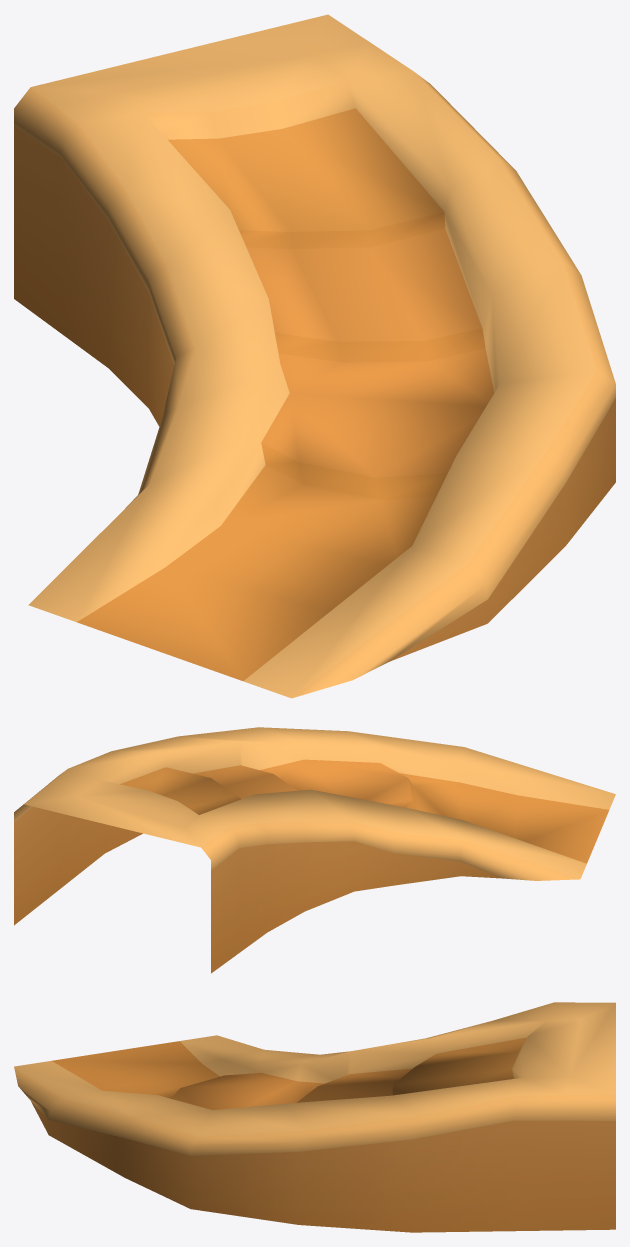
File: Bent Stairs 01.FBX
The picture shows the model from 3 angles, top to bottom: view 1: azimuth 30°, elevation 25°; view 2: azimuth 150°, elevation 25°; view 3: azimuth 270°, elevation 25°; orthographic projection. The views are drawn at different scales.
Visible parts, largest first — view 1: Bent Stairs 01; view 2: Bent Stairs 01; view 3: Bent Stairs 01.
Boxes of the visible parts, x1,y1,x2,y2 form: Bent Stairs 01: (14,14,615,698); Bent Stairs 01: (14,727,615,973); Bent Stairs 01: (14,1002,615,1232).
Size of the model in its own units: 972 by 300 by 1254.
1 material, 1 textured.
